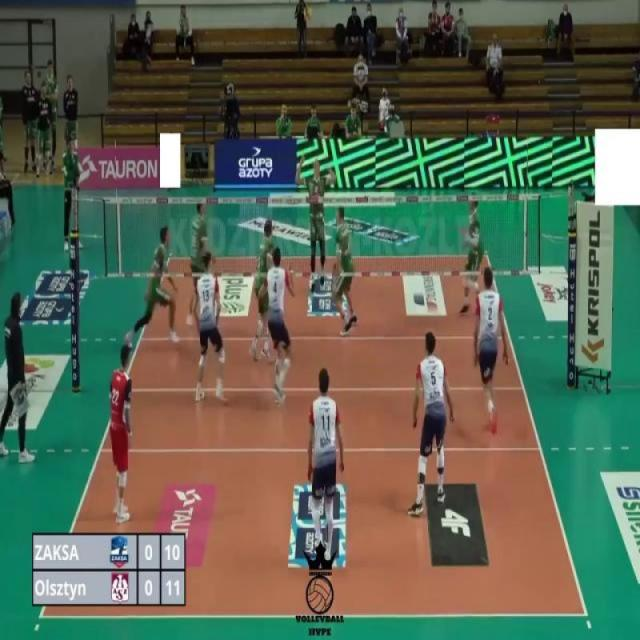volleyball: (303, 5, 313, 23)
